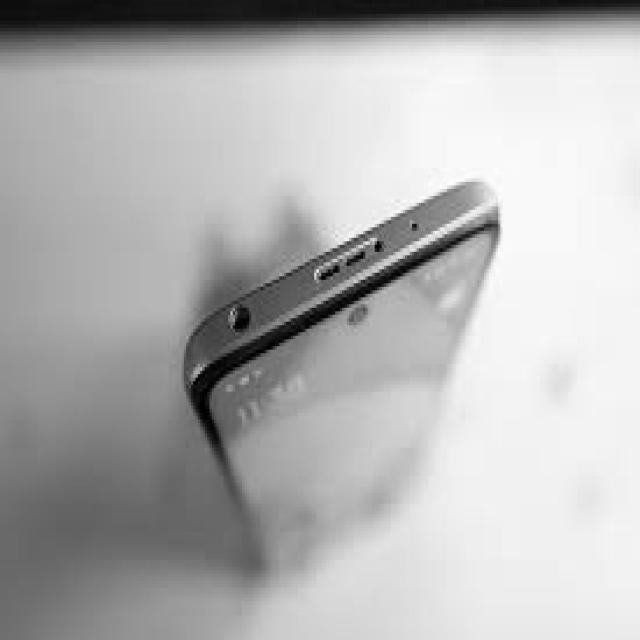No gun_phone: (185, 180, 502, 585)
